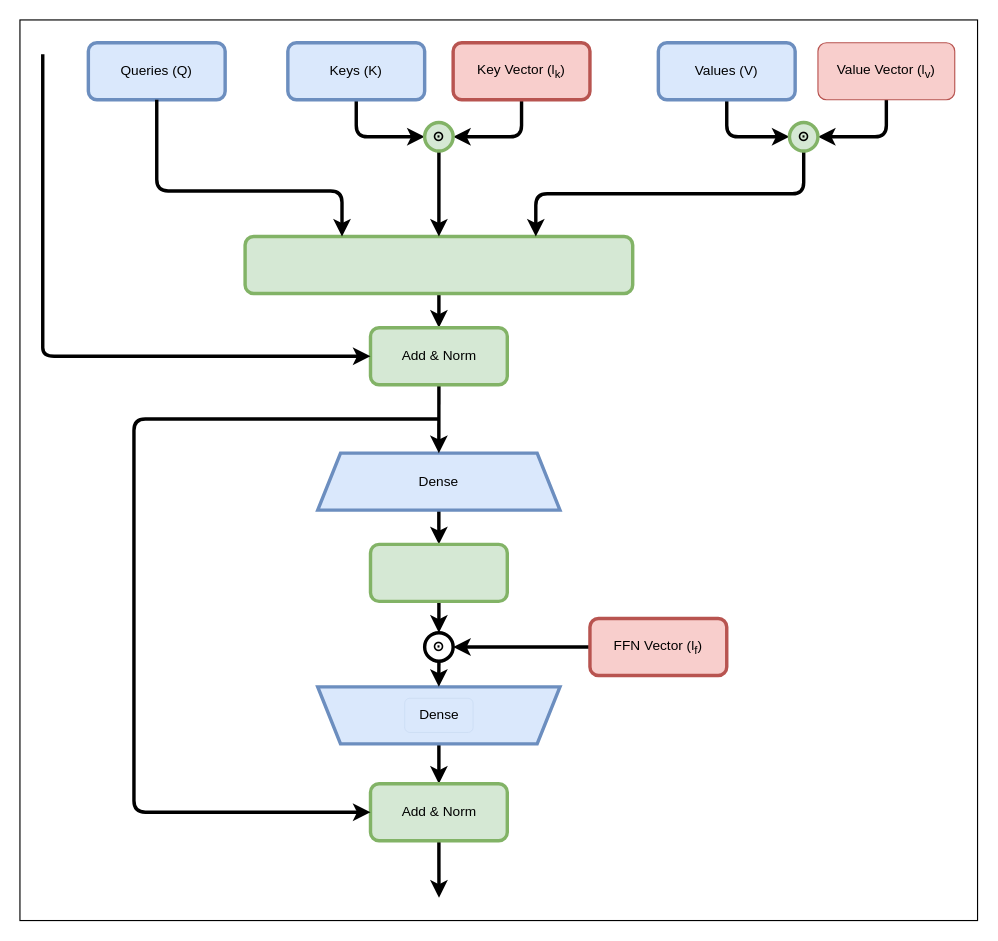
Some shapes in this 998 by 941 pixel diagram are drawn without their labels. Here are the shapes that lost their labels. From the top down, the centre of each, then its label:
At (x=438, y=264): "Multi-Head Attention Softmax(QK T/ √d).V".
At (x=438, y=572): "Non Linearity".
